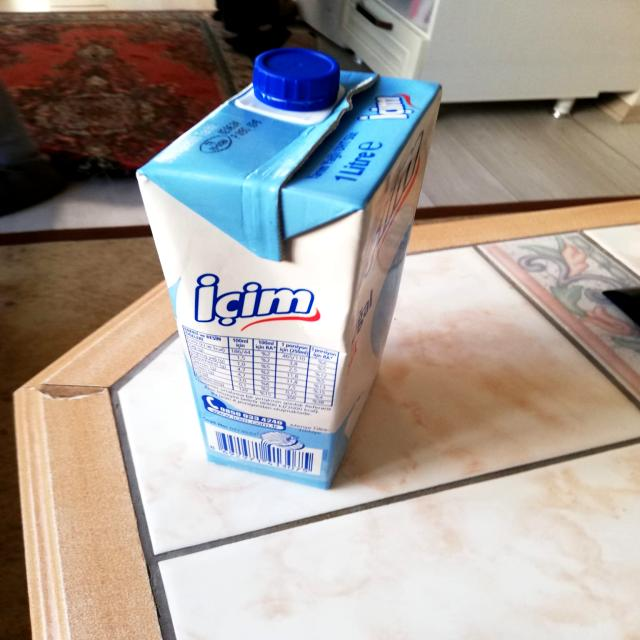milk: (135, 46, 444, 480)
